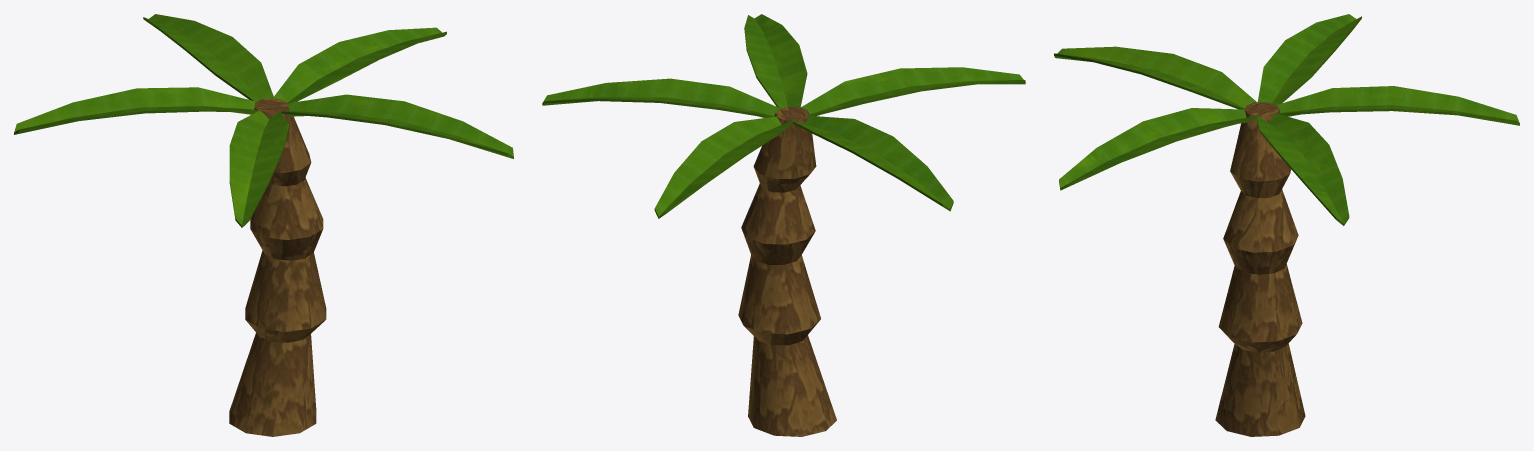
The model's file is palmtree.fbx.
3 renders of one model, left to right at view 1: azimuth 30°, elevation 25°; view 2: azimuth 150°, elevation 25°; view 3: azimuth 270°, elevation 25°, orthographic. The views are drawn at different scales.
Visible parts, largest first — view 1: Cylinder.004, Leaf.015, Leaf.013, Leaf.012, Leaf.014, Leaf.011; view 2: Cylinder.004, Leaf.012, Leaf.014, Leaf.015, Leaf.011, Leaf.013; view 3: Cylinder.004, Leaf.011, Leaf.013, Leaf.014, Leaf.012, Leaf.015.
Part boxes in pixels (x1=…): Cylinder.004: x1=229, y1=98, x2=326, y2=436; Leaf.015: x1=14, y1=87, x2=258, y2=134; Leaf.013: x1=281, y1=94, x2=513, y2=158; Leaf.012: x1=273, y1=27, x2=446, y2=103; Leaf.014: x1=229, y1=110, x2=289, y2=227; Leaf.011: x1=143, y1=14, x2=274, y2=102; Cylinder.004: x1=738, y1=106, x2=836, y2=436; Leaf.012: x1=542, y1=78, x2=780, y2=117; Leaf.014: x1=801, y1=67, x2=1025, y2=116; Leaf.015: x1=792, y1=115, x2=953, y2=211; Leaf.011: x1=654, y1=116, x2=793, y2=218; Leaf.013: x1=744, y1=14, x2=807, y2=108; Cylinder.004: x1=1215, y1=102, x2=1305, y2=436; Leaf.011: x1=1274, y1=86, x2=1519, y2=125; Leaf.013: x1=1059, y1=108, x2=1257, y2=190; Leaf.014: x1=1054, y1=46, x2=1257, y2=109; Leaf.012: x1=1256, y1=113, x2=1349, y2=225; Leaf.015: x1=1257, y1=14, x2=1361, y2=105.
Size of the model in its own units: 1228 by 901 by 1181.
Materials: 1 (1 with a texture image).
